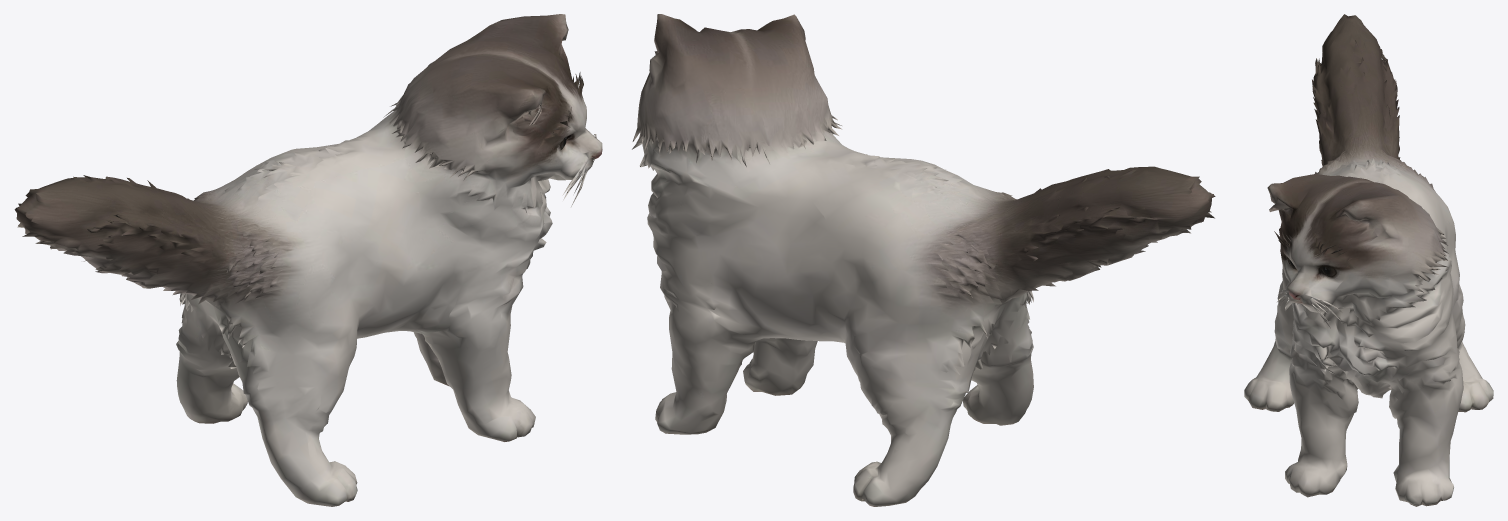
File: michi.glb
The picture shows the model from 3 angles, left to right: view 1: azimuth 30°, elevation 25°; view 2: azimuth 150°, elevation 25°; view 3: azimuth 270°, elevation 25°; orthographic projection. The views are drawn at different scales.
Visible parts, largest first — view 1: tripo_node_4349f63d-389f-45c4-adba-6a9bd8d08f26; view 2: tripo_node_4349f63d-389f-45c4-adba-6a9bd8d08f26; view 3: tripo_node_4349f63d-389f-45c4-adba-6a9bd8d08f26.
Boxes of the visible parts, x1,y1,x2,y2 form: tripo_node_4349f63d-389f-45c4-adba-6a9bd8d08f26: [14, 14, 602, 506]; tripo_node_4349f63d-389f-45c4-adba-6a9bd8d08f26: [632, 14, 1215, 506]; tripo_node_4349f63d-389f-45c4-adba-6a9bd8d08f26: [1244, 14, 1493, 506].
Bounding box in the file's own units: 1.59 × 1 × 0.7016.
1 material, 1 textured.
